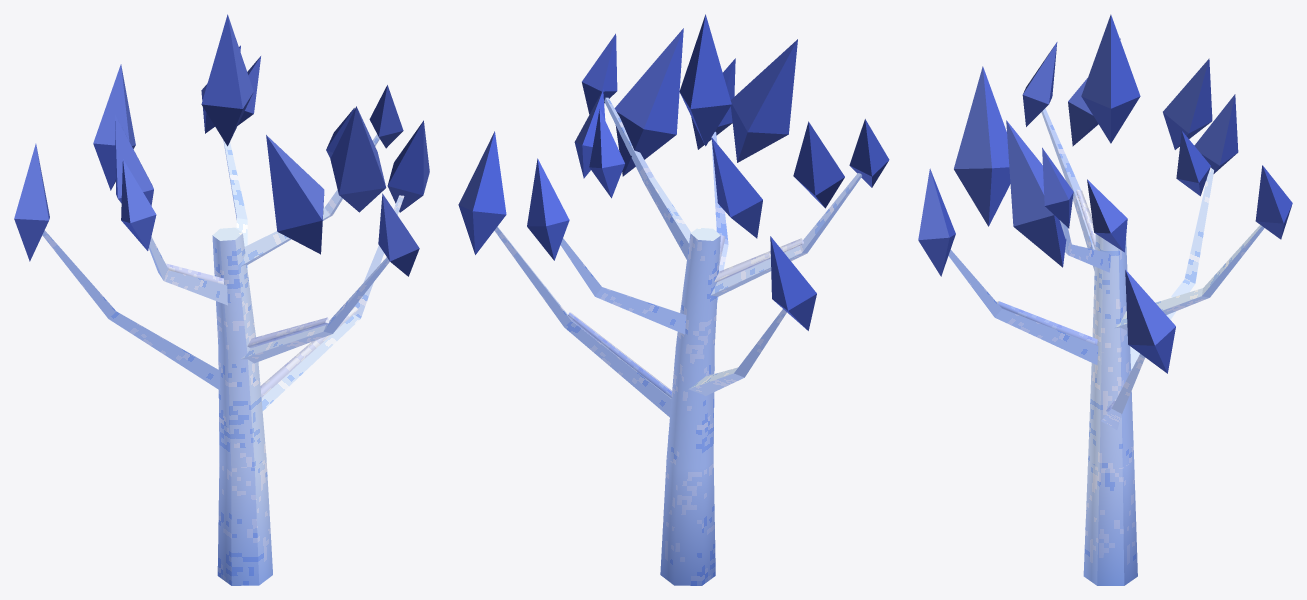
The model's file is nature.tree__crystal.glb.
3 views of the same model, side by side, from view 1: azimuth 30°, elevation 25°; view 2: azimuth 150°, elevation 25°; view 3: azimuth 270°, elevation 25° (orthographic). The views are drawn at different scales.
Parts seen in each view (by area): view 1: kit_canopy, kit_trunk, kit_cap; view 2: kit_canopy, kit_trunk, kit_cap; view 3: kit_canopy, kit_trunk, kit_cap.
Part boxes in pixels (box(x1,y1,x2,y2)): kit_canopy: box(14, 14, 429, 410); kit_trunk: box(212, 227, 272, 585); kit_cap: box(166, 263, 358, 397); kit_canopy: box(458, 14, 889, 417); kit_trunk: box(660, 227, 720, 585); kit_cap: box(568, 234, 803, 398); kit_canopy: box(918, 14, 1292, 429); kit_trunk: box(1083, 234, 1137, 585); kit_cap: box(996, 189, 1116, 412).
Bounding box in the file's own units: 8.06 × 11.26 × 6.9.
Materials: 3 (2 with a texture image).
